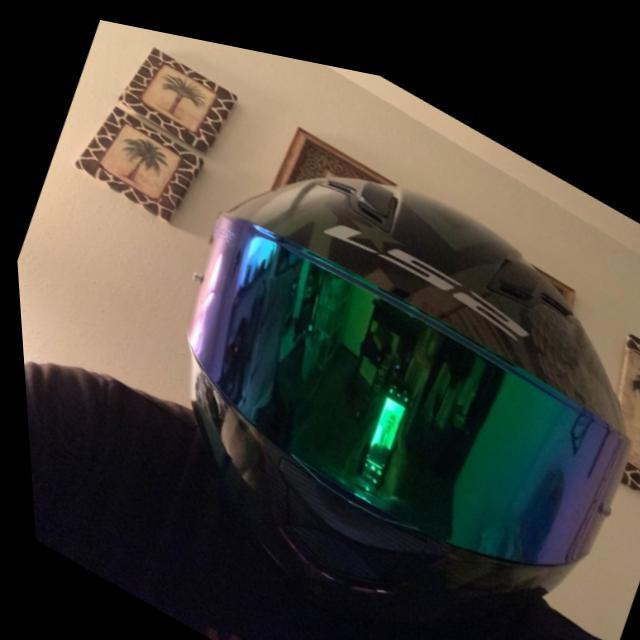Helmet: (183, 171, 630, 607)
